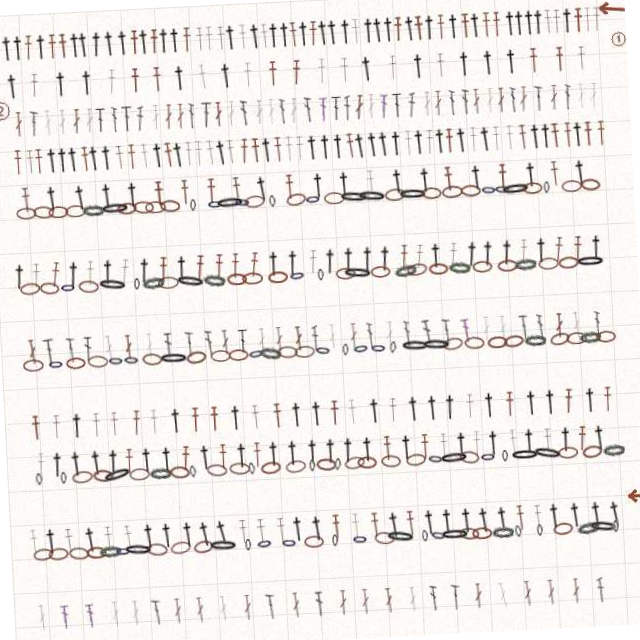chain: (94, 455, 126, 474), (525, 456, 556, 473), (177, 267, 208, 283), (99, 267, 130, 282), (374, 533, 405, 548), (577, 533, 608, 548), (345, 192, 375, 206), (363, 192, 393, 206), (507, 192, 537, 206), (345, 268, 375, 282), (106, 192, 136, 205), (221, 192, 251, 205), (399, 344, 429, 357), (420, 344, 450, 357), (432, 458, 462, 471), (112, 534, 142, 547), (197, 534, 227, 547), (396, 267, 420, 283), (566, 533, 589, 549), (404, 193, 434, 205), (578, 269, 608, 281), (157, 345, 187, 357), (503, 459, 533, 471), (429, 535, 459, 547), (548, 343, 570, 359), (144, 267, 167, 282), (257, 343, 280, 358), (205, 268, 228, 282), (292, 191, 313, 206), (409, 267, 430, 282), (441, 343, 462, 358), (337, 457, 358, 472), (452, 457, 473, 472), (159, 533, 180, 548), (182, 533, 203, 548), (64, 458, 86, 472), (135, 534, 157, 548), (41, 268, 62, 282), (80, 268, 101, 282), (140, 344, 161, 358), (184, 344, 205, 358), (502, 344, 523, 358), (162, 458, 183, 472), (199, 458, 220, 472), (253, 458, 274, 472), (278, 458, 299, 472), (575, 458, 596, 472), (57, 534, 78, 548), (363, 534, 384, 548), (448, 534, 469, 548), (451, 268, 473, 281), (517, 268, 539, 281), (578, 344, 600, 357), (596, 458, 618, 471), (88, 534, 110, 547), (39, 192, 60, 205), (139, 192, 160, 205), (250, 192, 271, 205), (391, 192, 412, 205), (448, 192, 469, 205), (85, 458, 106, 471), (222, 458, 243, 471), (542, 534, 563, 547), (88, 193, 110, 205), (523, 345, 545, 357), (142, 459, 164, 471), (481, 535, 503, 547), (166, 192, 186, 205), (467, 192, 487, 205), (587, 192, 607, 205), (22, 268, 42, 281), (86, 344, 106, 357), (276, 344, 296, 357), (463, 344, 483, 357), (309, 458, 329, 471), (350, 458, 370, 471), (374, 458, 394, 471), (399, 458, 419, 471), (22, 534, 42, 547), (37, 534, 57, 547), (71, 193, 92, 205), (151, 193, 172, 205), (330, 193, 351, 205), (160, 269, 181, 281), (244, 269, 265, 281), (21, 345, 42, 357), (565, 345, 586, 357), (22, 193, 42, 205), (54, 193, 74, 205), (123, 193, 143, 205), (428, 193, 448, 205), (529, 193, 549, 205), (568, 193, 588, 205), (229, 269, 249, 281), (270, 269, 290, 281), (338, 269, 358, 281), (373, 269, 393, 281), (431, 269, 451, 281), (475, 269, 495, 281), (500, 269, 520, 281), (541, 269, 561, 281), (561, 269, 581, 281), (64, 345, 84, 357), (209, 345, 229, 357), (227, 345, 247, 357), (293, 345, 313, 357), (486, 345, 506, 357), (595, 345, 615, 357), (122, 459, 142, 471), (551, 459, 571, 471), (75, 535, 95, 547), (293, 535, 313, 547), (461, 535, 481, 547), (419, 534, 436, 548), (240, 192, 257, 205), (500, 192, 517, 205), (291, 268, 308, 281), (121, 344, 138, 357), (246, 344, 263, 357), (313, 344, 330, 357), (351, 344, 368, 357), (420, 458, 437, 471), (245, 534, 262, 547), (487, 192, 503, 205), (106, 344, 122, 357), (213, 193, 229, 205), (311, 193, 327, 205), (62, 269, 78, 281), (46, 345, 62, 357), (369, 345, 385, 357), (473, 459, 489, 471), (104, 535, 120, 547), (270, 535, 286, 547), (341, 535, 357, 547), (275, 193, 282, 205), (388, 345, 395, 357), (28, 459, 35, 471), (182, 459, 189, 471), (241, 459, 248, 471), (327, 459, 334, 471), (504, 535, 511, 547), (196, 193, 202, 205), (550, 193, 556, 205), (136, 269, 142, 281), (320, 269, 326, 281), (341, 345, 347, 357), (53, 459, 59, 471), (302, 459, 308, 471), (495, 459, 501, 471), (234, 535, 240, 547), (321, 535, 327, 547), (411, 535, 417, 547), (526, 535, 532, 547), (602, 535, 608, 547)
double: (42, 325, 55, 351), (483, 591, 495, 617), (211, 97, 223, 122), (421, 325, 433, 350), (132, 97, 143, 122), (26, 325, 37, 350), (460, 325, 471, 350), (137, 591, 148, 616), (251, 591, 262, 616), (39, 97, 49, 122), (106, 97, 116, 122), (342, 97, 352, 122), (365, 97, 375, 122), (403, 97, 413, 122), (65, 325, 75, 350), (103, 325, 113, 350), (237, 325, 247, 350), (293, 325, 303, 350), (441, 325, 451, 350), (518, 325, 528, 350), (571, 325, 581, 350), (71, 591, 81, 616), (96, 591, 106, 616), (181, 591, 191, 616), (204, 591, 214, 616), (277, 591, 287, 616), (370, 591, 380, 616), (394, 591, 404, 616), (509, 591, 519, 616), (54, 97, 63, 122), (237, 97, 246, 122), (300, 97, 309, 122), (390, 97, 399, 122), (483, 97, 492, 122), (530, 97, 539, 122), (545, 97, 554, 122), (600, 97, 609, 122), (123, 325, 132, 350), (144, 325, 153, 350), (163, 325, 172, 350), (184, 325, 193, 350), (220, 325, 229, 350), (274, 325, 283, 350), (327, 325, 336, 350), (498, 325, 507, 350), (23, 591, 32, 616), (46, 591, 55, 616), (117, 591, 126, 616), (159, 591, 168, 616), (229, 591, 238, 616), (301, 591, 310, 616), (347, 591, 356, 616), (437, 591, 446, 616), (460, 591, 469, 616), (533, 591, 542, 616), (558, 591, 567, 616), (25, 97, 33, 122), (69, 97, 77, 122), (83, 97, 91, 122), (96, 97, 104, 122), (162, 97, 170, 122), (175, 97, 183, 122), (187, 97, 195, 122), (225, 97, 233, 122), (266, 97, 274, 122), (278, 97, 286, 122), (330, 97, 338, 122), (378, 97, 386, 122), (434, 97, 442, 122), (445, 97, 453, 122), (472, 97, 480, 122), (497, 97, 505, 122), (508, 97, 516, 122), (561, 97, 569, 122), (588, 97, 596, 122), (83, 325, 91, 350), (204, 325, 212, 350), (257, 325, 265, 350), (349, 325, 357, 350), (385, 325, 393, 350), (482, 325, 490, 350), (536, 325, 544, 350), (555, 325, 563, 350), (325, 591, 333, 616), (583, 591, 591, 616), (147, 97, 154, 122), (251, 97, 258, 122), (315, 97, 322, 122), (419, 97, 426, 122), (575, 97, 582, 122), (311, 325, 318, 350), (366, 325, 373, 350), (403, 325, 410, 350), (416, 591, 423, 616), (122, 97, 128, 122), (199, 97, 205, 122), (290, 97, 296, 122), (355, 97, 361, 122), (460, 97, 466, 122), (521, 97, 527, 122), (594, 325, 600, 350)
half_double: (203, 514, 221, 541), (186, 515, 203, 541), (597, 515, 614, 541), (179, 135, 195, 161), (222, 135, 238, 161), (361, 135, 377, 161), (79, 173, 95, 199), (261, 173, 277, 199), (14, 249, 30, 275), (68, 249, 84, 275), (139, 249, 155, 275), (325, 249, 341, 275), (380, 249, 396, 275), (467, 249, 483, 275), (483, 249, 499, 275), (502, 249, 518, 275), (72, 515, 88, 541), (299, 515, 315, 541), (376, 515, 392, 541), (466, 515, 482, 541), (485, 515, 500, 541), (90, 21, 105, 46), (103, 21, 118, 46), (116, 21, 131, 46), (262, 21, 277, 46), (330, 21, 345, 46), (385, 21, 400, 46), (417, 21, 432, 46), (17, 59, 32, 84), (231, 59, 246, 84), (372, 59, 387, 84), (53, 135, 68, 160), (74, 135, 89, 160), (95, 135, 110, 160), (159, 135, 174, 160), (268, 135, 283, 160), (374, 135, 389, 160), (385, 135, 400, 160), (463, 135, 478, 160), (487, 135, 502, 160), (537, 135, 552, 160), (51, 173, 66, 198), (106, 173, 121, 198), (397, 173, 412, 198), (476, 173, 491, 198), (580, 173, 595, 198), (103, 249, 118, 274), (177, 249, 192, 274), (269, 249, 284, 274), (288, 249, 303, 274), (344, 249, 359, 274), (363, 249, 378, 274), (537, 249, 552, 274), (592, 249, 607, 274), (438, 401, 453, 426), (43, 439, 58, 464), (62, 439, 77, 464), (82, 439, 97, 464), (99, 439, 114, 464), (191, 439, 206, 464), (334, 439, 349, 464), (552, 439, 567, 464), (586, 439, 601, 464), (33, 515, 48, 540), (131, 515, 146, 540), (149, 515, 164, 540), (170, 515, 185, 540), (280, 515, 295, 540), (412, 515, 427, 540), (449, 515, 464, 540), (537, 515, 552, 540), (558, 515, 573, 540), (579, 515, 594, 540), (14, 21, 28, 46), (25, 21, 39, 46), (48, 21, 62, 46), (82, 21, 96, 46), (130, 21, 144, 46), (151, 21, 165, 46), (171, 21, 185, 46), (182, 21, 196, 46), (238, 21, 252, 46), (281, 21, 295, 46), (292, 21, 306, 46), (311, 21, 325, 46), (340, 21, 354, 46), (353, 21, 367, 46), (376, 21, 390, 46), (396, 21, 410, 46), (437, 21, 451, 46), (461, 21, 475, 46), (483, 21, 497, 46), (518, 21, 532, 46), (527, 21, 541, 46), (537, 21, 551, 46), (546, 21, 560, 46), (575, 21, 589, 46), (66, 59, 80, 84), (92, 59, 106, 84), (185, 59, 199, 84), (424, 59, 438, 84), (470, 59, 484, 84), (494, 59, 508, 84), (517, 59, 531, 84), (64, 135, 78, 160), (108, 135, 122, 160), (314, 135, 328, 160), (327, 135, 341, 160), (340, 135, 354, 160), (398, 135, 412, 160), (421, 135, 435, 160), (442, 135, 456, 160), (548, 135, 562, 160), (580, 135, 594, 160), (132, 173, 146, 198), (318, 173, 332, 198), (344, 173, 358, 198), (425, 173, 439, 198), (531, 173, 545, 198), (432, 249, 446, 274), (65, 401, 79, 426), (164, 401, 178, 426), (224, 401, 238, 426), (285, 401, 299, 426), (305, 401, 319, 426), (363, 401, 377, 426), (402, 401, 416, 426), (421, 401, 435, 426), (478, 401, 492, 426), (520, 401, 534, 426), (539, 401, 553, 426), (579, 401, 593, 426), (133, 439, 147, 464), (153, 439, 167, 464), (228, 439, 242, 464), (260, 439, 274, 464), (279, 439, 293, 464), (299, 439, 313, 464), (317, 439, 331, 464), (354, 439, 368, 464), (393, 439, 407, 464), (448, 439, 462, 464), (480, 439, 494, 464), (516, 439, 530, 464), (430, 515, 444, 540), (52, 248, 64, 274), (122, 135, 134, 160), (213, 135, 225, 160), (251, 249, 263, 274), (556, 249, 568, 274), (112, 515, 124, 540), (428, 21, 439, 46), (210, 59, 221, 84), (33, 135, 44, 160), (148, 135, 159, 160), (172, 135, 183, 160), (234, 135, 245, 160), (259, 135, 270, 160), (354, 135, 365, 160), (559, 135, 570, 160), (27, 173, 38, 198), (160, 173, 171, 198), (238, 173, 249, 198), (372, 173, 383, 198), (450, 173, 461, 198), (33, 249, 44, 274), (122, 249, 133, 274), (197, 249, 208, 274), (417, 249, 428, 274), (451, 249, 462, 274), (18, 515, 29, 540), (53, 515, 64, 540), (227, 515, 238, 540), (245, 515, 256, 540), (265, 515, 276, 540), (340, 515, 351, 540), (395, 515, 406, 540), (505, 515, 516, 540), (72, 21, 82, 46), (196, 21, 206, 46), (209, 21, 219, 46), (252, 21, 262, 46), (274, 21, 284, 46), (303, 21, 313, 46), (365, 21, 375, 46), (475, 21, 485, 46), (496, 21, 506, 46), (558, 21, 568, 46), (588, 21, 598, 46), (597, 21, 607, 46), (606, 21, 616, 46), (119, 59, 129, 84), (304, 59, 314, 84), (329, 59, 339, 84), (352, 59, 362, 84), (89, 135, 99, 160), (202, 135, 212, 160), (248, 135, 258, 160), (282, 135, 292, 160), (293, 135, 303, 160), (514, 135, 524, 160), (527, 135, 537, 160), (572, 135, 582, 160), (213, 173, 223, 198), (557, 173, 567, 198), (88, 249, 98, 274), (161, 249, 171, 274), (217, 249, 227, 274), (233, 249, 243, 274), (311, 249, 321, 274), (402, 249, 412, 274), (522, 249, 532, 274), (576, 249, 586, 274), (26, 401, 36, 426), (246, 401, 256, 426), (268, 401, 278, 426), (325, 401, 335, 426), (343, 401, 353, 426), (559, 401, 569, 426), (29, 439, 39, 464), (174, 439, 184, 464), (376, 439, 386, 464), (502, 439, 512, 464), (571, 439, 581, 464), (93, 515, 103, 540), (321, 515, 331, 540), (360, 515, 370, 540), (523, 515, 533, 540), (38, 21, 47, 46), (62, 21, 71, 46), (144, 21, 153, 46), (164, 21, 173, 46), (219, 21, 228, 46), (231, 21, 240, 46), (323, 21, 332, 46), (408, 21, 417, 46), (451, 21, 460, 46), (507, 21, 516, 46), (567, 21, 576, 46), (42, 59, 51, 84), (143, 59, 152, 84), (165, 59, 174, 84), (256, 59, 265, 84), (281, 59, 290, 84), (401, 59, 410, 84), (449, 59, 458, 84), (542, 59, 551, 84), (568, 59, 577, 84), (590, 59, 599, 84), (22, 135, 31, 160), (43, 135, 52, 160), (136, 135, 145, 160), (193, 135, 202, 160), (304, 135, 313, 160), (413, 135, 422, 160), (434, 135, 443, 160), (454, 135, 463, 160), (478, 135, 487, 160), (501, 135, 510, 160), (593, 135, 602, 160), (606, 135, 615, 160), (187, 173, 196, 198), (292, 173, 301, 198), (505, 173, 514, 198), (47, 401, 56, 426), (87, 401, 96, 426), (105, 401, 114, 426), (127, 401, 136, 426), (145, 401, 154, 426), (186, 401, 195, 426), (205, 401, 214, 426), (384, 401, 393, 426), (461, 401, 470, 426), (501, 401, 510, 426), (599, 401, 608, 426), (118, 439, 127, 464), (212, 439, 221, 464), (246, 439, 255, 464), (414, 439, 423, 464), (433, 439, 442, 464), (466, 439, 475, 464), (537, 439, 546, 464)
noise: (0, 84, 23, 107), (611, 16, 640, 31), (616, 504, 640, 519), (623, 45, 640, 63)
